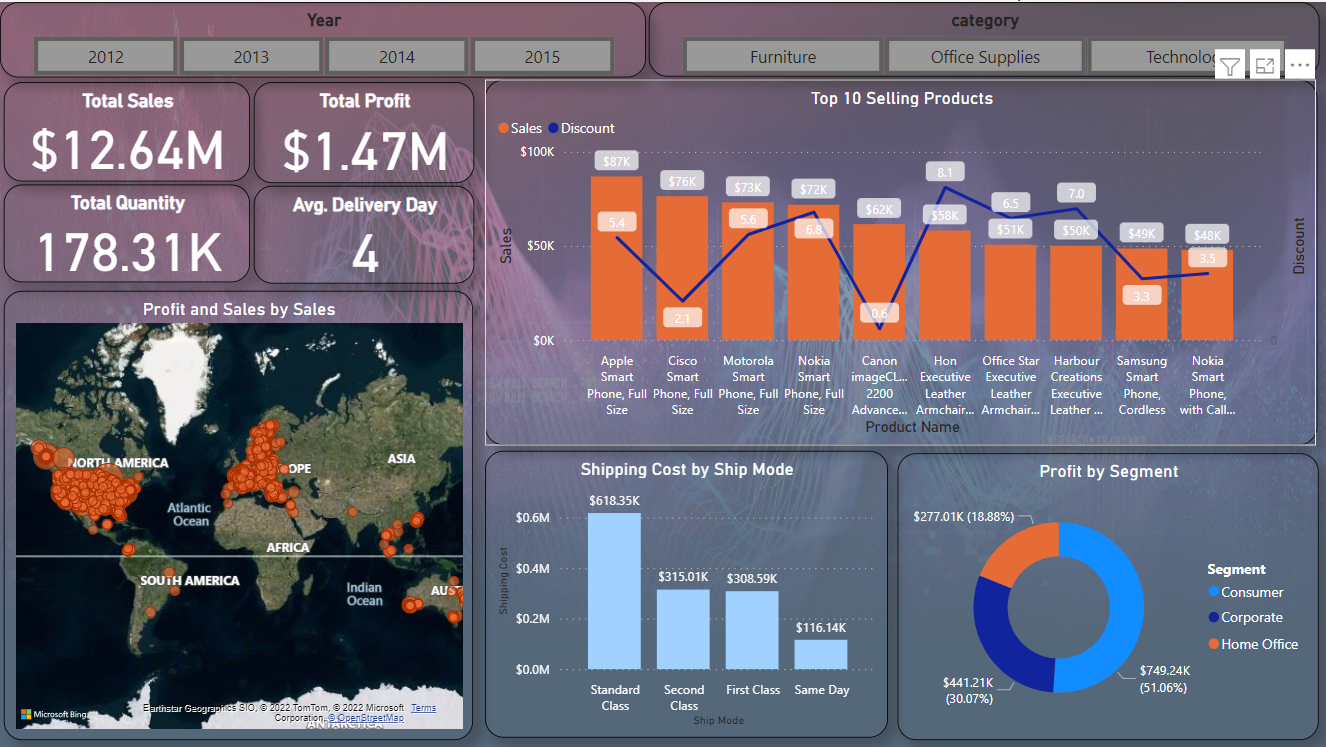

Layout of this report page (visuals, bound fields, positions):
{"tool":"powerbi","page":{"name":"previous_4year_scenario","canvas":[1280,720],"ordinal":0},"visuals":[{"type":"slicer","title":"Year","fields":{"Values":["Orders.Order Date.Variation.Date Hierarchy.Year"]},"box":[0,0,623.5,72.8],"z":0},{"type":"card","title":"Total Profit","fields":{"Values":["Sum(Orders.Profit)"]},"box":[244.5,76.9,212.9,97.5],"z":1000},{"type":"card","title":"Total Sales","fields":{"Values":["Sum(Orders.Sales)"]},"box":[4.1,76.9,237.6,96.1],"z":2000},{"type":"card","title":"Total Quantity","fields":{"Values":["Sum(Orders.Quantity)"]},"box":[4.1,175.8,237.6,94.8],"z":3000},{"type":"slicer","title":"category","fields":{"Values":["Orders.Category"]},"box":[625.7,0,647.5,72.2],"z":4000},{"type":"card","title":"Avg. Delivery Day","fields":{"Values":["Avg(Orders.Delivery Day)"]},"box":[244.5,177.2,212.9,94.8],"z":5000},{"type":"donutChart","fields":{"Category":["Orders.Segment"],"Y":["Sum(Orders.Profit)"]},"box":[865.6,434.8,406.2,276.7],"z":6000},{"type":"lineStackedColumnComboChart","title":"Top 10 Selling Products","fields":{"Category":["Orders.Product Name"],"Y":["Sum(Orders.Sales)"],"Y2":["Sum(Orders.Discount)"]},"box":[467.6,75,802.9,353.1],"z":7000},{"type":"map","fields":{"Size":["Sum(Orders.Profit)"],"Category":["Orders.Sales"]},"box":[4.1,278.1,452.6,433.5],"z":8000},{"type":"columnChart","fields":{"Category":["Orders.Ship Mode"],"Y":["Sum(Orders.Shipping Cost)"]},"box":[467.6,433.5,388.5,276.7],"z":9000}]}

Visuals, with their boxes in screenshot pixels (x1, y1, x2, y2), scaled from the page's 1280x720 canvas onto the 1326x747 screenshot:
"Year" slicer: detection(0, 0, 646, 76)
"Total Profit" card: detection(253, 80, 474, 181)
"Total Sales" card: detection(4, 80, 250, 179)
"Total Quantity" card: detection(4, 182, 250, 281)
"category" slicer: detection(648, 0, 1319, 75)
"Avg. Delivery Day" card: detection(253, 184, 474, 282)
donutChart - Orders.Segment x Sum(Orders.Profit): detection(897, 451, 1318, 738)
"Top 10 Selling Products" lineStackedColumnComboChart: detection(484, 78, 1316, 444)
map - Sum(Orders.Profit) x Orders.Sales: detection(4, 289, 473, 738)
columnChart - Orders.Ship Mode x Sum(Orders.Shipping Cost): detection(484, 450, 887, 737)
